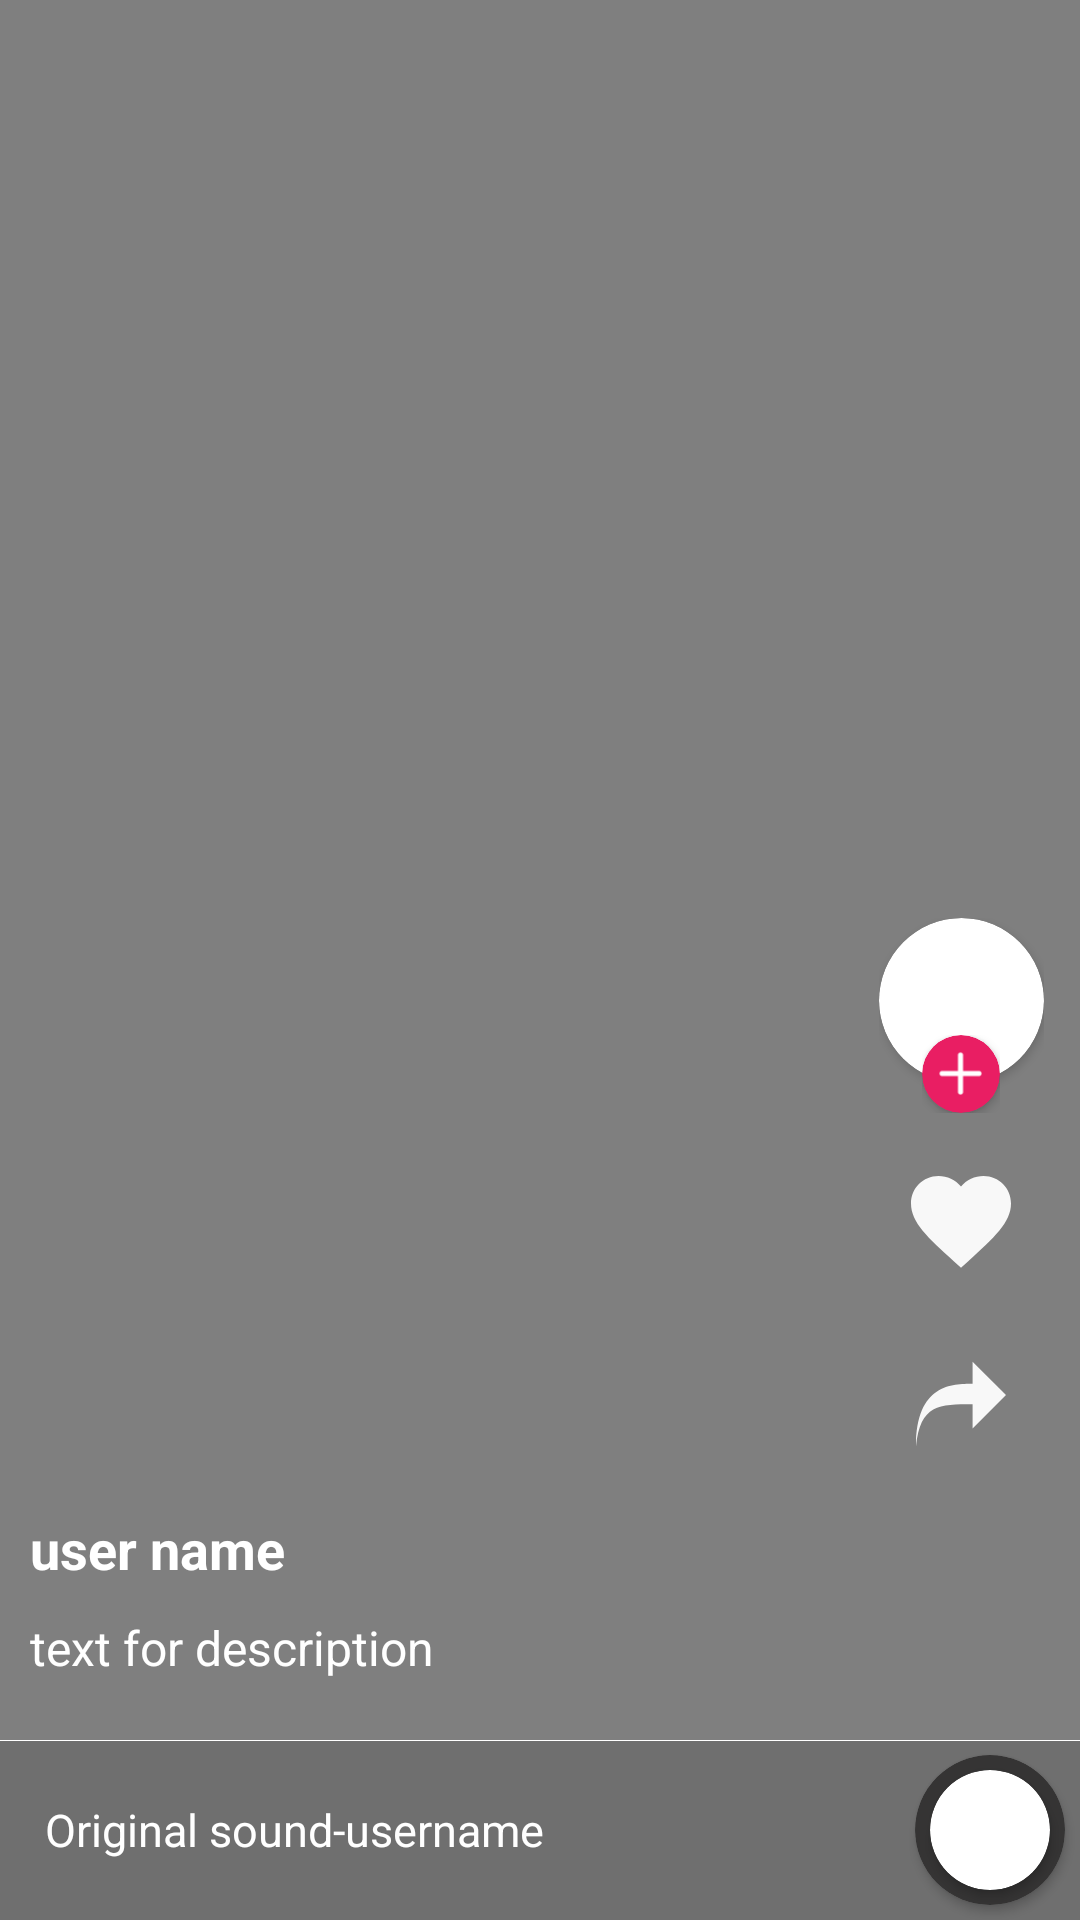

Screen size 1080x1920. Icon name, then its center in pixels as (x=x, y=y):
like: (x=961, y=1222)
plus: (x=960, y=1073)
share: (x=961, y=1403)
